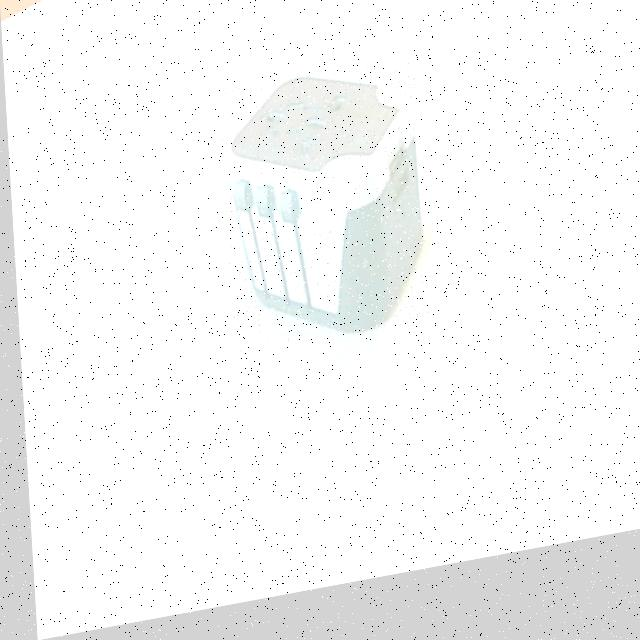adapter: (217, 66, 424, 363)
